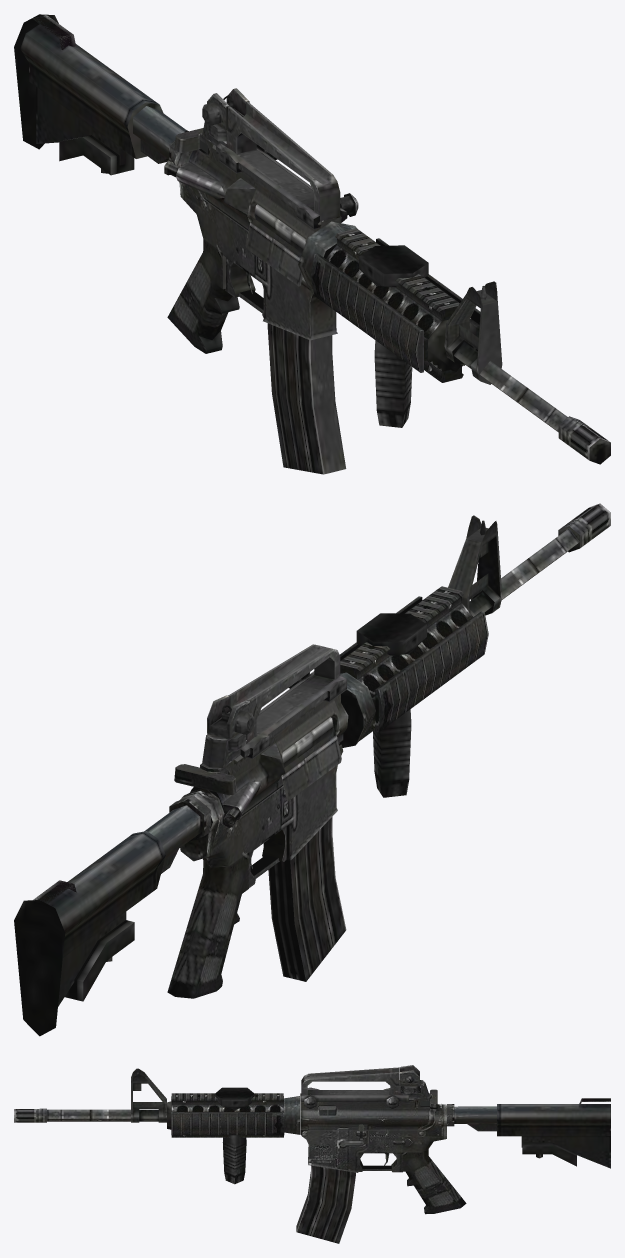
The picture shows the model from 3 angles, top to bottom: view 1: azimuth 30°, elevation 25°; view 2: azimuth 150°, elevation 25°; view 3: azimuth 270°, elevation 25°; orthographic projection. The views are drawn at different scales.
Visible parts, largest first — view 1: Model; view 2: Model; view 3: Model.
Part boxes in pixels (x1,y1,x2,y2): Model: (14,14,610,474); Model: (14,503,610,1036); Model: (14,1065,610,1243).
Bounding box in the file's own units: 0.0443 × 0.1853 × 0.58.
1 material, 1 textured.
